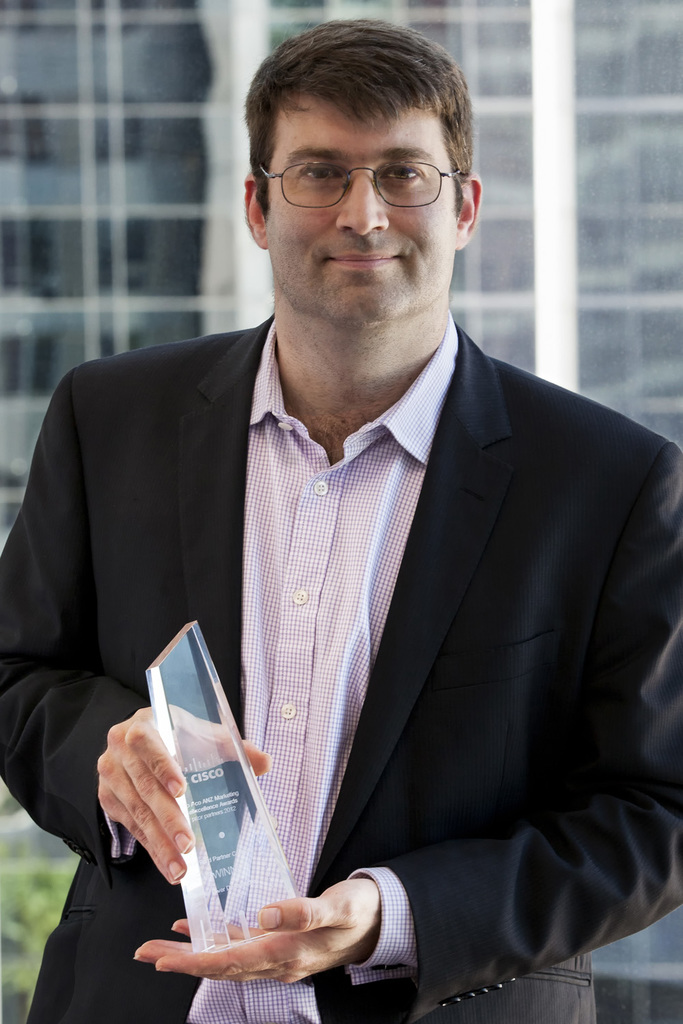Human_hand: (96, 702, 273, 890), (131, 875, 381, 987)
